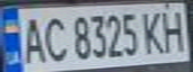2: (106, 10, 124, 60)
3: (87, 11, 109, 60)
5: (121, 9, 142, 57)
8: (69, 11, 90, 61)
A: (18, 12, 48, 65)
C: (39, 12, 69, 63)
H: (157, 7, 190, 53)
K: (139, 7, 169, 55)
